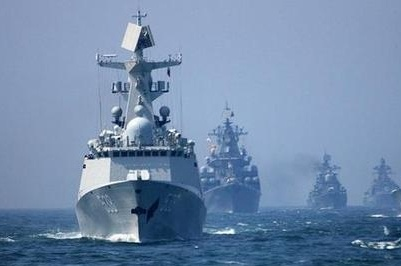warship: (67, 3, 222, 245), (194, 98, 263, 216), (299, 147, 351, 214), (358, 150, 401, 211)
